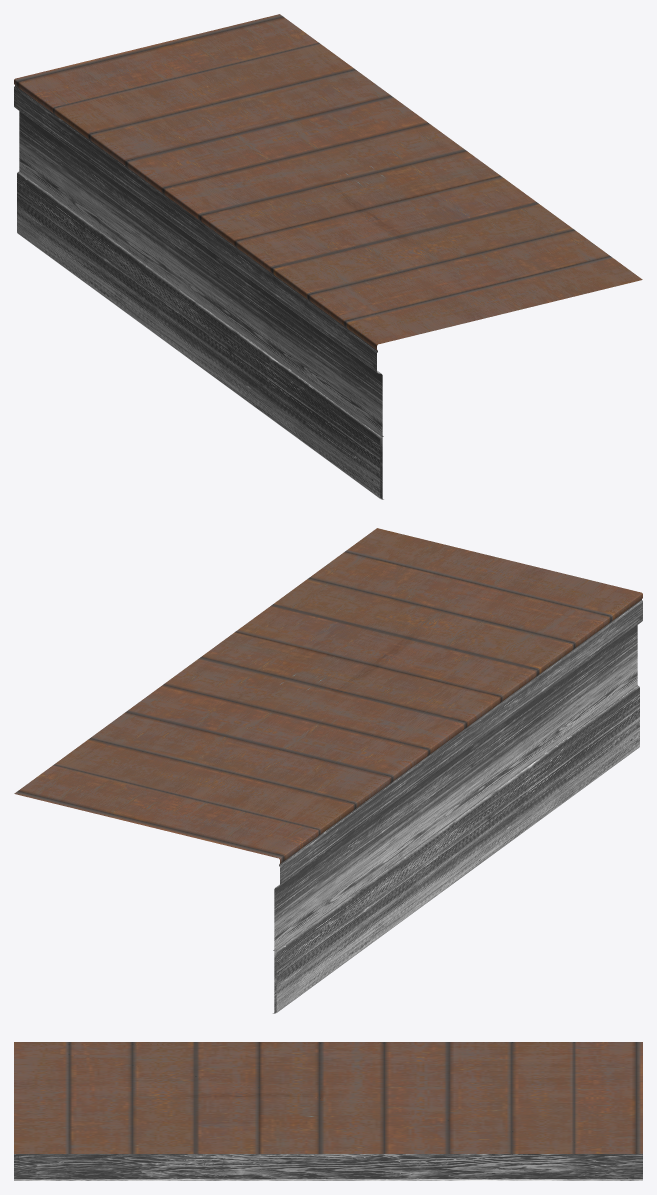
The model's file is SM_Base_Side_B3_Splines_37.fbx.
The picture shows the model from 3 angles, top to bottom: view 1: azimuth 30°, elevation 25°; view 2: azimuth 150°, elevation 25°; view 3: azimuth 270°, elevation 25°; orthographic projection. The views are drawn at different scales.
Visible parts, largest first — view 1: SM_Base_Side_B3_Splines_37; view 2: SM_Base_Side_B3_Splines_37; view 3: SM_Base_Side_B3_Splines_37.
Boxes of the visible parts, box(x1,y1,x2,y2) form: SM_Base_Side_B3_Splines_37: box(14, 14, 642, 499); SM_Base_Side_B3_Splines_37: box(14, 528, 642, 1013); SM_Base_Side_B3_Splines_37: box(14, 1042, 642, 1180).
Size of the model in its own units: 210 by 496 by 118.
Materials: 3 (3 with a texture image).
